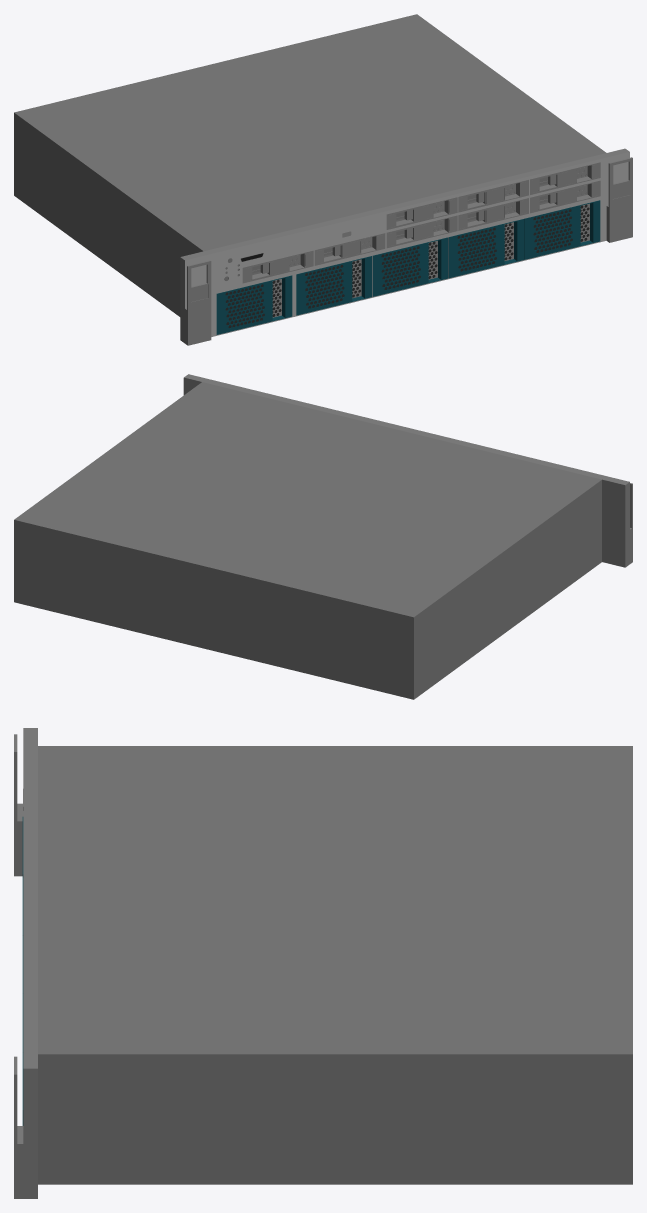
File: Cisco UCS C210 M2.gltf
The picture shows the model from 3 angles, top to bottom: view 1: azimuth 30°, elevation 25°; view 2: azimuth 150°, elevation 25°; view 3: azimuth 270°, elevation 25°; orthographic projection. The views are drawn at different scales.
Parts seen in each view (by area): view 1: root, Component#1 (×8), object 12, object 13, object 16, object 15, object 14; view 2: root; view 3: root.
Boxes of the visible parts, x1,y1,x2,y2 form: root: (14,14,632,345); Component#1 (×8): (242,162,600,283); object 12: (216,275,292,334); object 13: (524,200,600,259); object 16: (372,237,448,296); object 15: (448,219,524,278); object 14: (296,256,371,315); root: (14,374,632,699); root: (14,728,632,1198).
Size of the model in its own units: 17 by 3.04 by 13.06.
